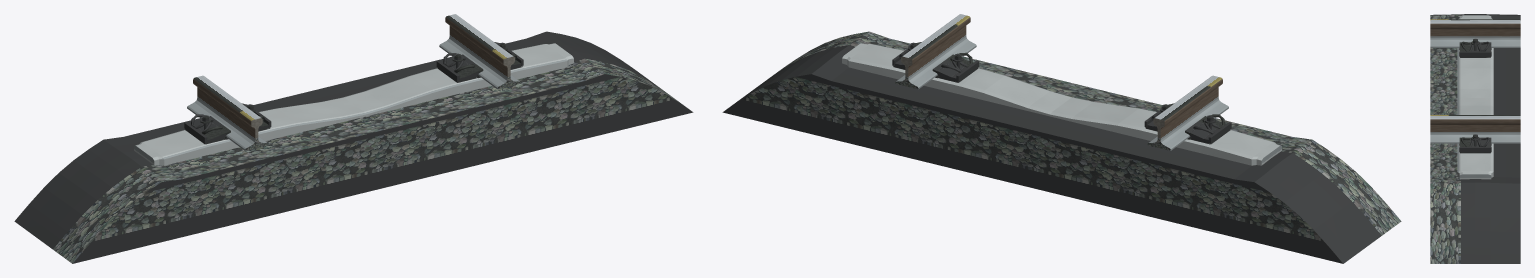
File: rail_high.obj
3 renders of one model, left to right at view 1: azimuth 30°, elevation 25°; view 2: azimuth 150°, elevation 25°; view 3: azimuth 270°, elevation 25°, orthographic. The views are drawn at different scales.
Parts seen in each view (by area): view 1: ballast, sleeper, rail_left, rail_right, fastener_left, fastener_right; view 2: ballast, sleeper, rail_left, rail_right, fastener_left, fastener_right; view 3: ballast, sleeper, rail_left, rail_right, fastener_right, fastener_left.
Boxes of the visible parts, bbox=[...] form: ballast: bbox=[14, 31, 693, 263]; sleeper: bbox=[134, 43, 573, 165]; rail_left: bbox=[187, 75, 266, 150]; rail_right: bbox=[439, 14, 519, 88]; fastener_left: bbox=[184, 103, 271, 144]; fastener_right: bbox=[436, 42, 523, 82]; ballast: bbox=[722, 31, 1401, 263]; sleeper: bbox=[842, 43, 1281, 165]; rail_left: bbox=[1149, 75, 1228, 150]; rail_right: bbox=[896, 14, 976, 88]; fastener_left: bbox=[1144, 103, 1231, 144]; fastener_right: bbox=[892, 42, 979, 82]; ballast: bbox=[1430, 14, 1520, 263]; sleeper: bbox=[1457, 15, 1493, 179]; rail_left: bbox=[1430, 19, 1520, 47]; rail_right: bbox=[1430, 115, 1520, 143]; fastener_right: bbox=[1459, 134, 1491, 153]; fastener_left: bbox=[1459, 38, 1491, 57].
Bounding box in the file's own units: 3.7 × 0.5683 × 0.6.
